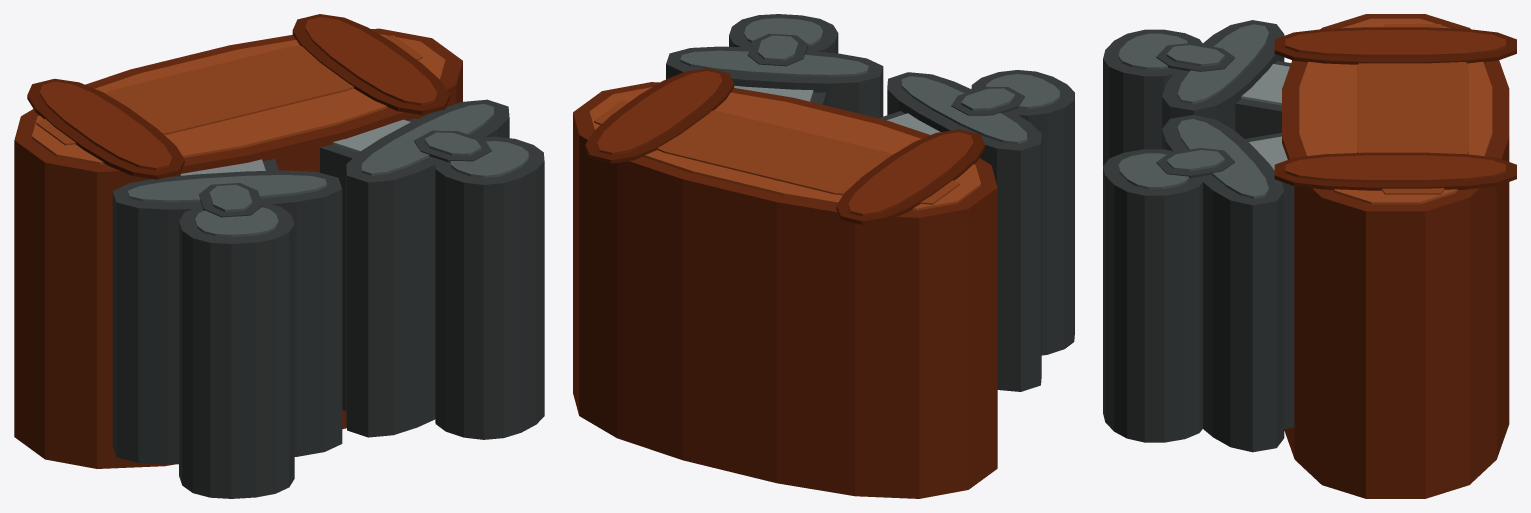
File: bag_espadas_pedra.fbx
The picture shows the model from 3 angles, left to right: view 1: azimuth 30°, elevation 25°; view 2: azimuth 150°, elevation 25°; view 3: azimuth 270°, elevation 25°; orthographic projection. The views are drawn at different scales.
Visible parts, largest first — view 1: bag_espadas_pedra_mochila; view 2: bag_espadas_pedra_mochila; view 3: bag_espadas_pedra_mochila.
Part boxes in pixels (bbox=[...]): bag_espadas_pedra_mochila: bbox=[14, 14, 544, 498]; bag_espadas_pedra_mochila: bbox=[573, 14, 1074, 498]; bag_espadas_pedra_mochila: bbox=[1103, 14, 1516, 498].
Bounding box in the file's own units: 2.71 × 1.89 × 2.4.
1 material, 1 textured.
